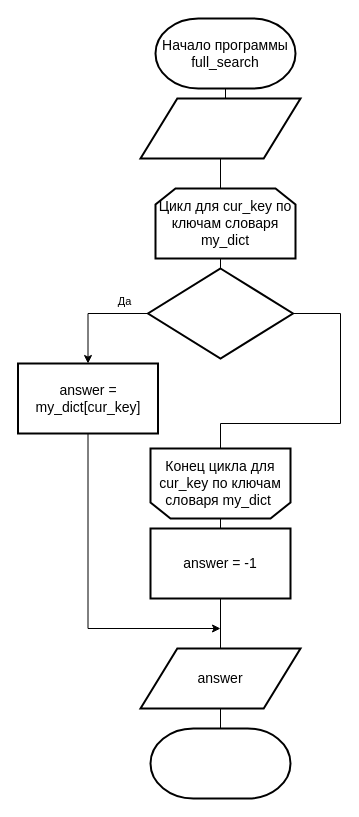
Some shapes in this 359 by 817 pixel diagram are drawn without their labels. The box of each missing label's shape, as (x1, y1, x2, y2) in pixels:
cur_key=key?: (146, 267, 294, 359)
my_dict, key: (139, 97, 301, 159)
Конец программы full_search: (149, 727, 291, 799)
